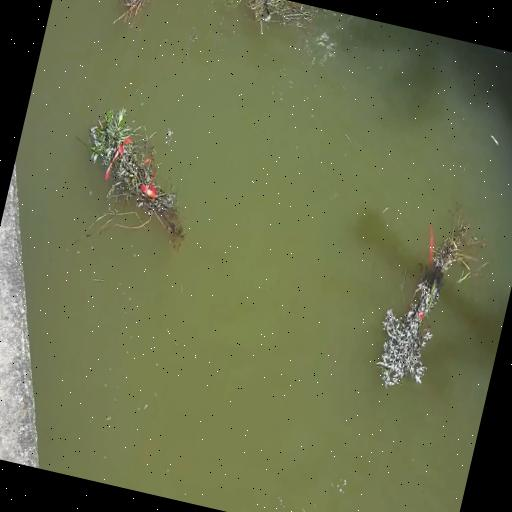twig: (367, 194, 497, 402), (62, 100, 208, 256), (427, 200, 497, 288), (224, 0, 315, 46), (112, 0, 164, 34)
